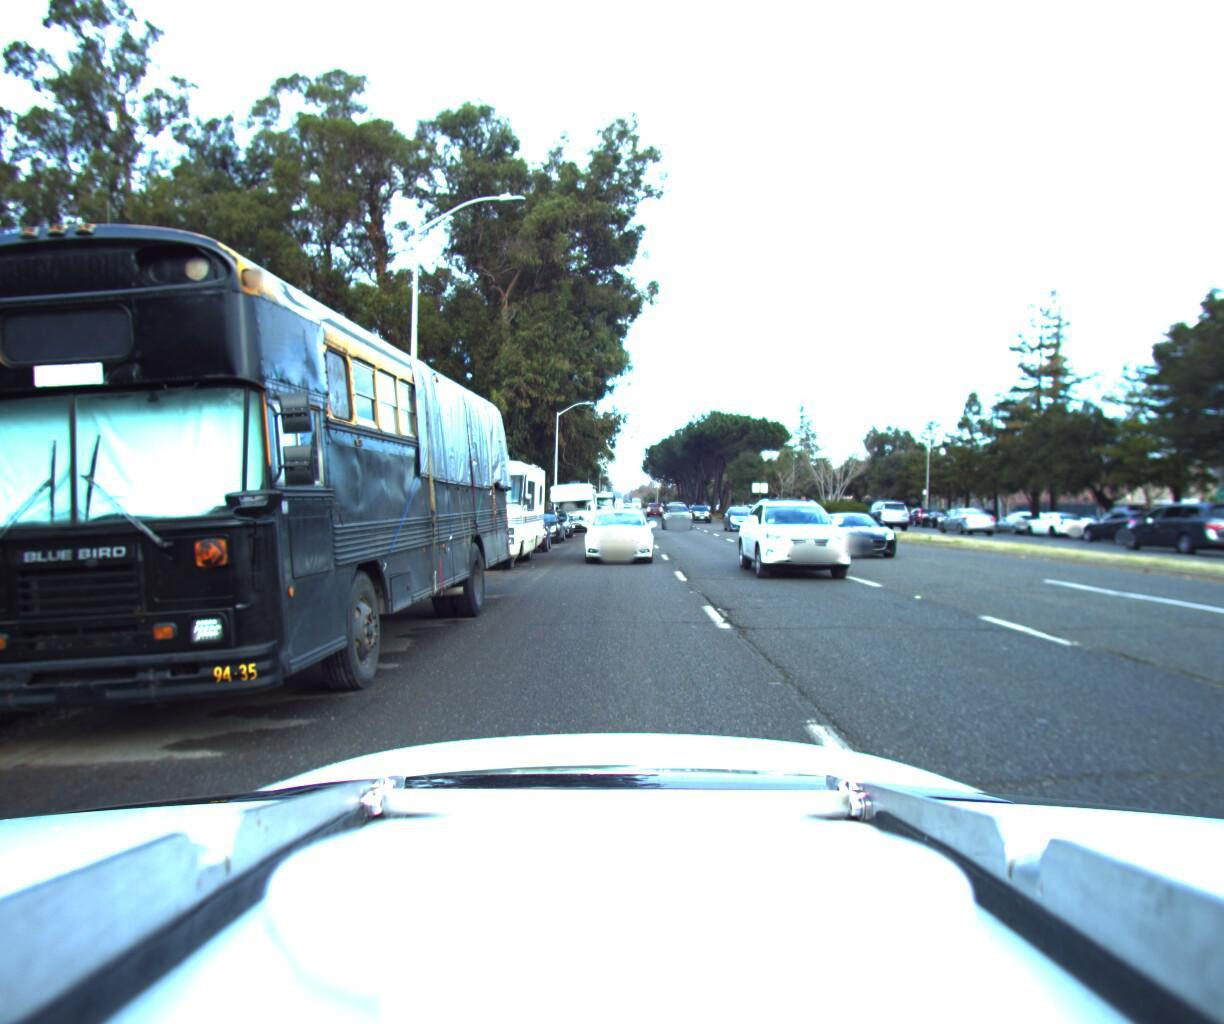bus: (0, 200, 522, 795)
car: (738, 493, 892, 586), (1095, 495, 1224, 551), (575, 501, 655, 562), (828, 508, 921, 557), (1065, 502, 1154, 538), (494, 506, 556, 552), (1021, 504, 1097, 534), (515, 504, 569, 541), (929, 501, 991, 529), (1180, 510, 1224, 549), (852, 495, 902, 525), (948, 501, 1000, 528), (535, 502, 576, 535), (989, 508, 1047, 532), (721, 499, 768, 528), (659, 494, 695, 527), (901, 500, 940, 523), (688, 497, 712, 517)
other_vehicle: (410, 450, 552, 569), (545, 474, 600, 530)
